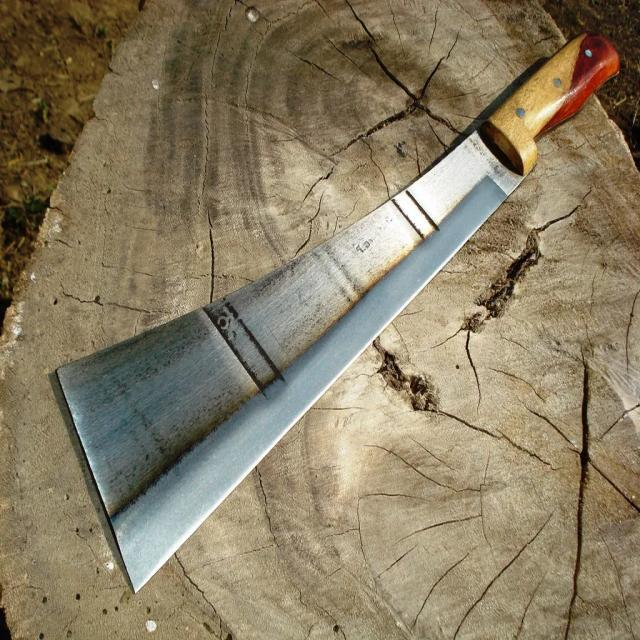eto: (46, 23, 625, 613)
